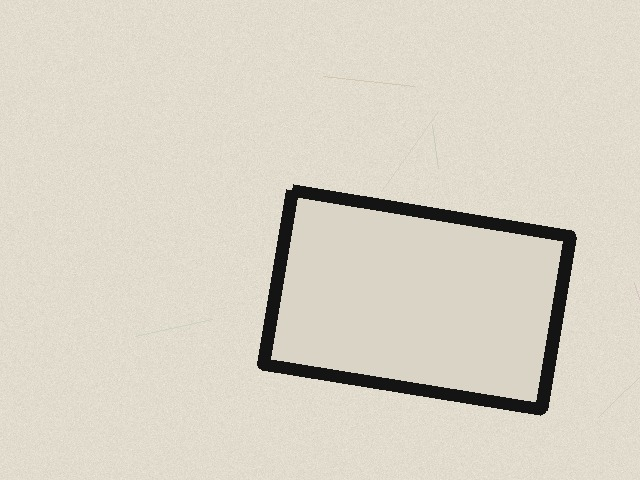parking_area: (263, 190, 570, 409)
